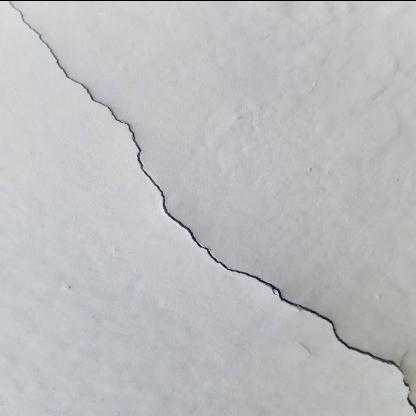crack: (7, 0, 416, 416)
